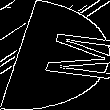M_W: (6, 27, 104, 83)
